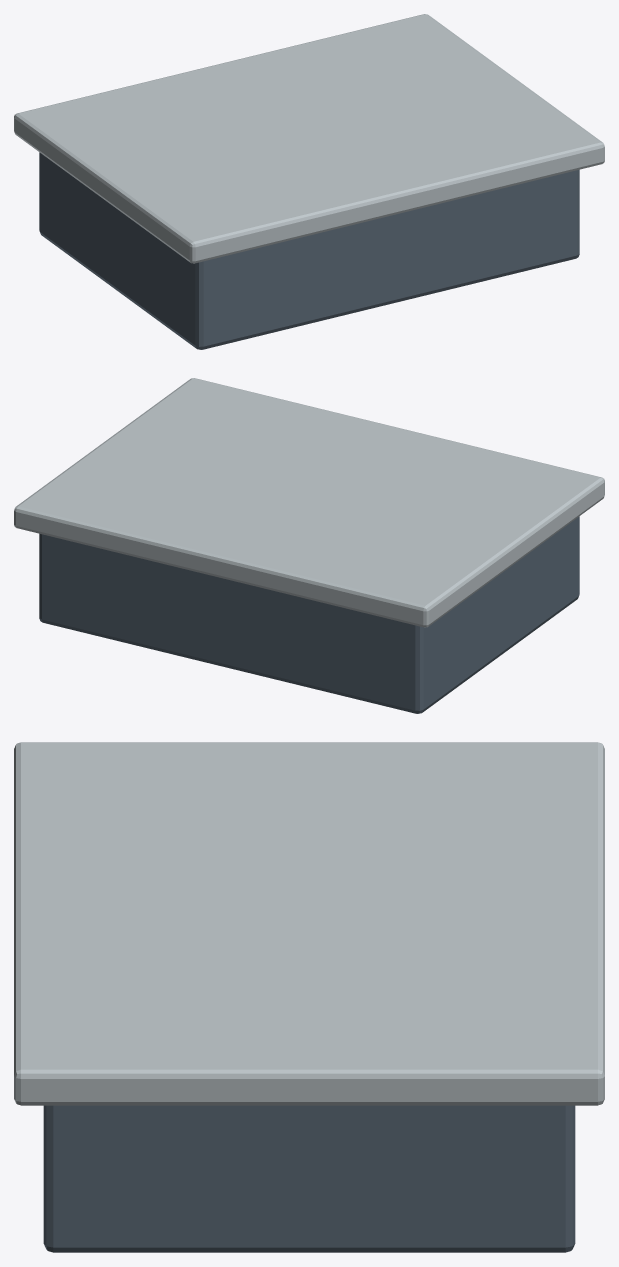
File: training-platform.glb
The picture shows the model from 3 angles, top to bottom: view 1: azimuth 30°, elevation 25°; view 2: azimuth 150°, elevation 25°; view 3: azimuth 270°, elevation 25°; orthographic projection. The views are drawn at different scales.
Visible parts, largest first — view 1: Visual_Platform_Deck, Visual_Platform_ArmoredBase; view 2: Visual_Platform_Deck, Visual_Platform_ArmoredBase; view 3: Visual_Platform_Deck, Visual_Platform_ArmoredBase.
Part boxes in pixels (x1,y1,x2,y2): Visual_Platform_Deck: (14, 14, 604, 263); Visual_Platform_ArmoredBase: (39, 152, 579, 349); Visual_Platform_Deck: (14, 378, 604, 627); Visual_Platform_ArmoredBase: (39, 516, 579, 713); Visual_Platform_Deck: (14, 742, 604, 1105); Visual_Platform_ArmoredBase: (43, 1105, 575, 1252).
Bounding box in the file's own units: 8 × 2.2 × 6.
